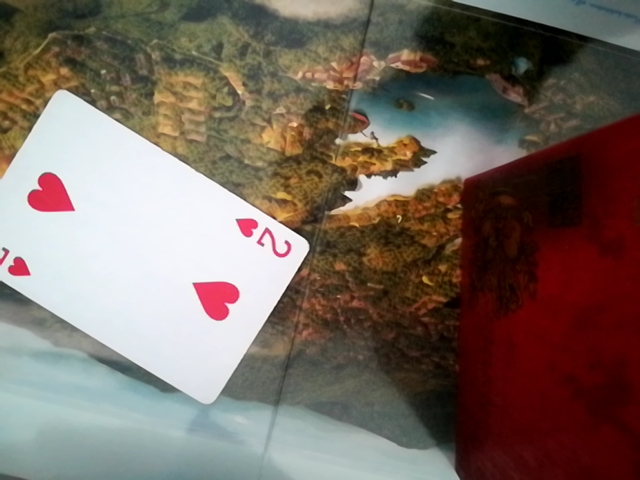hx 2: (0, 92, 311, 408)
